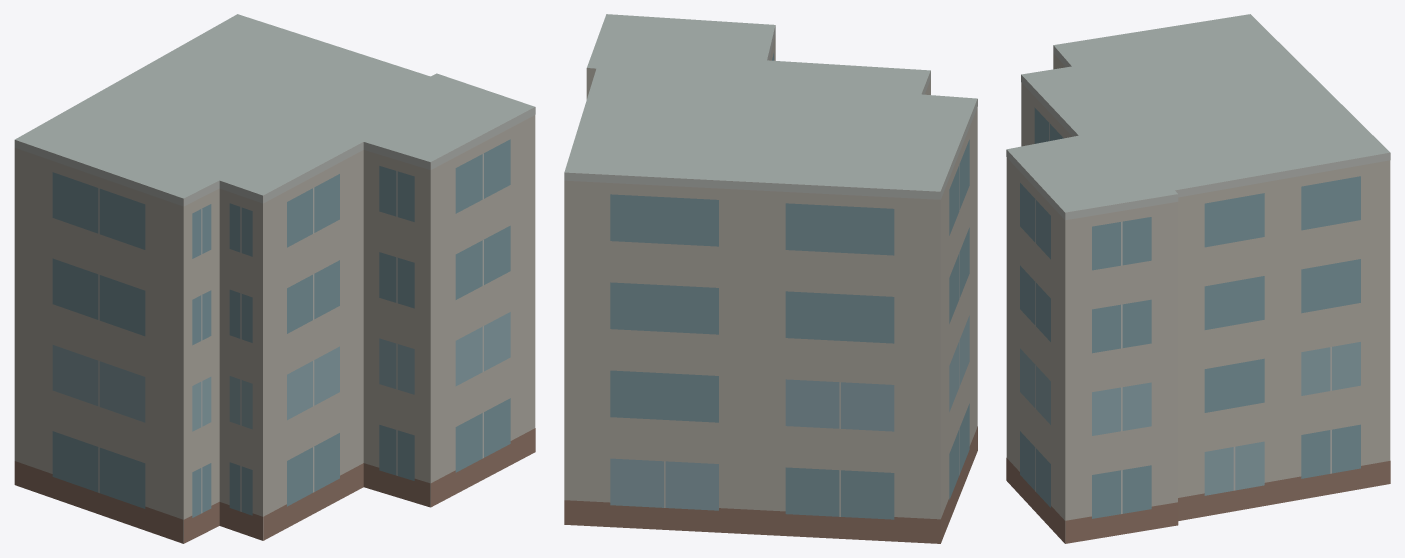
The model's file is survey-upis-32606833.glb.
3 views of the same model, side by side, from view 1: azimuth 30°, elevation 25°; view 2: azimuth 150°, elevation 25°; view 3: azimuth 270°, elevation 25° (orthographic). The views are drawn at different scales.
Parts seen in each view (by area): view 1: survey-upis-32606833.tmp; view 2: survey-upis-32606833.tmp; view 3: survey-upis-32606833.tmp.
Part boxes in pixels (left/top/right/bottom): survey-upis-32606833.tmp: left=14, top=14, right=535, bottom=543; survey-upis-32606833.tmp: left=564, top=14, right=977, bottom=543; survey-upis-32606833.tmp: left=1006, top=14, right=1390, bottom=543.
Size of the model in its own units: 13.58 by 10.55 by 11.09.
